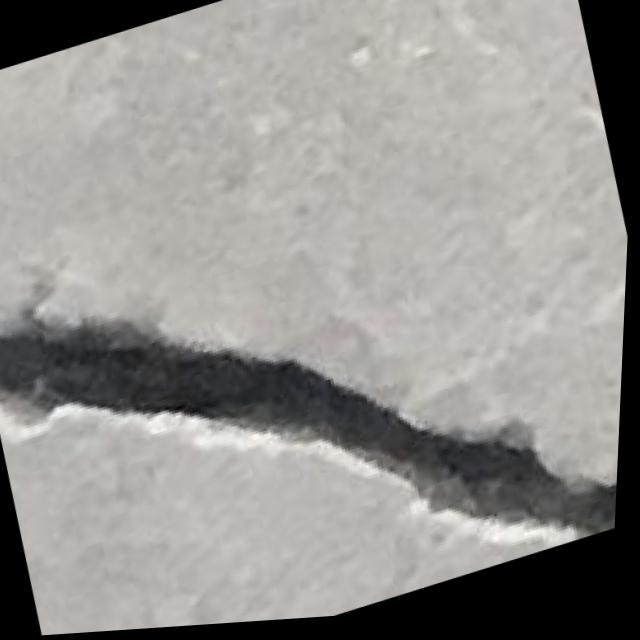Crack: (0, 135, 634, 640)
